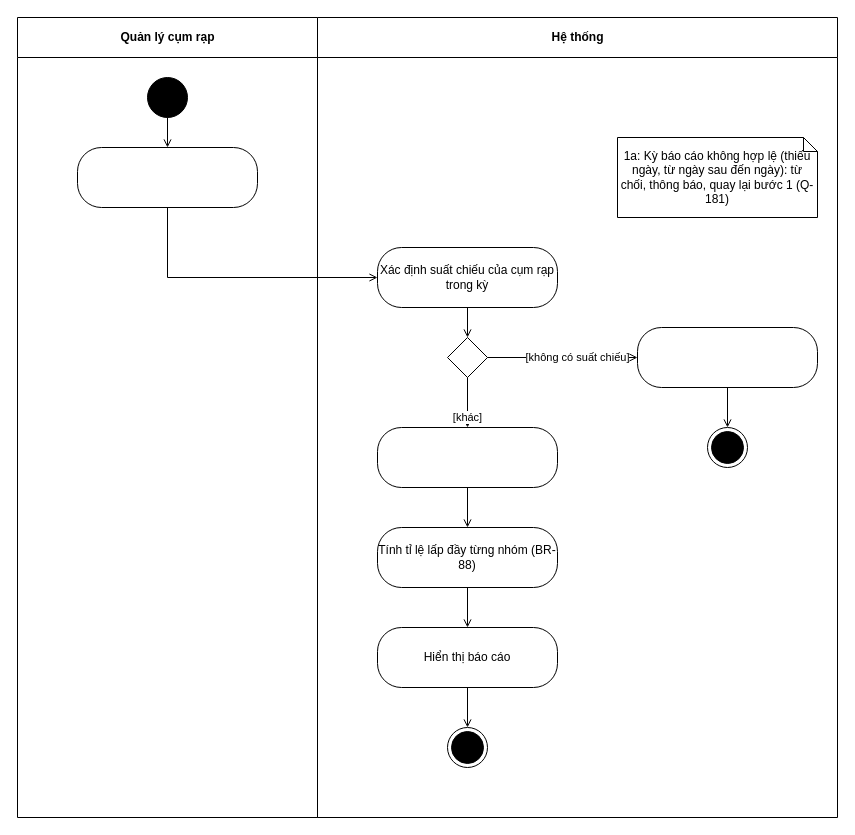
Some shapes in this 855 by 835 pixel diagram are drawn without their labels. The centre of each missing label's shape, as x and y in pixels:
"Thông báo không có suất chiếu trong kỳ" goes at [727,357].
"Tính doanh thu từng nhóm (BR-77)" goes at [467,457].
"Yêu cầu xem báo cáo, chọn cách xem và kỳ" goes at [167,177].
